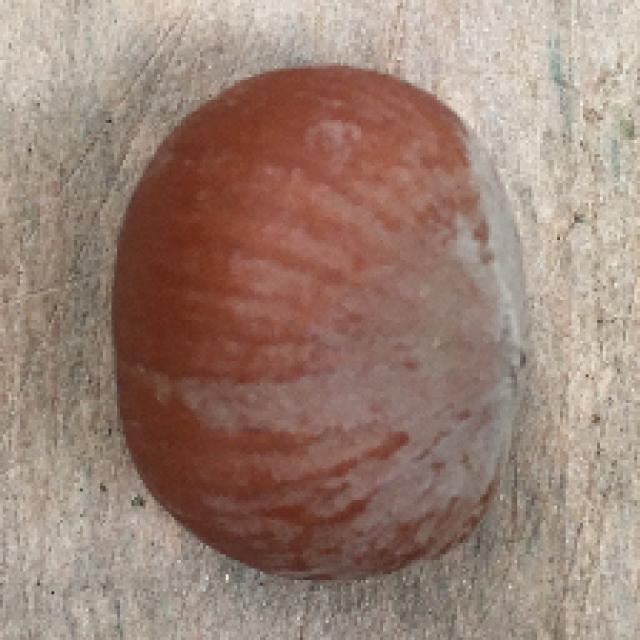hazelnut: (107, 56, 540, 584)
